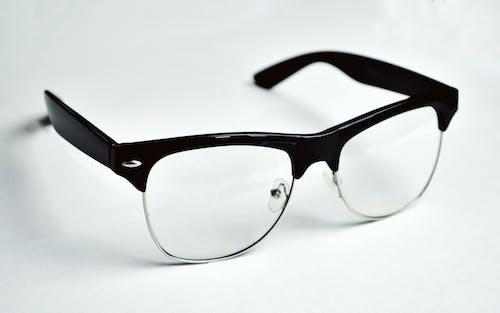eyeglasses: (30, 44, 471, 271)
